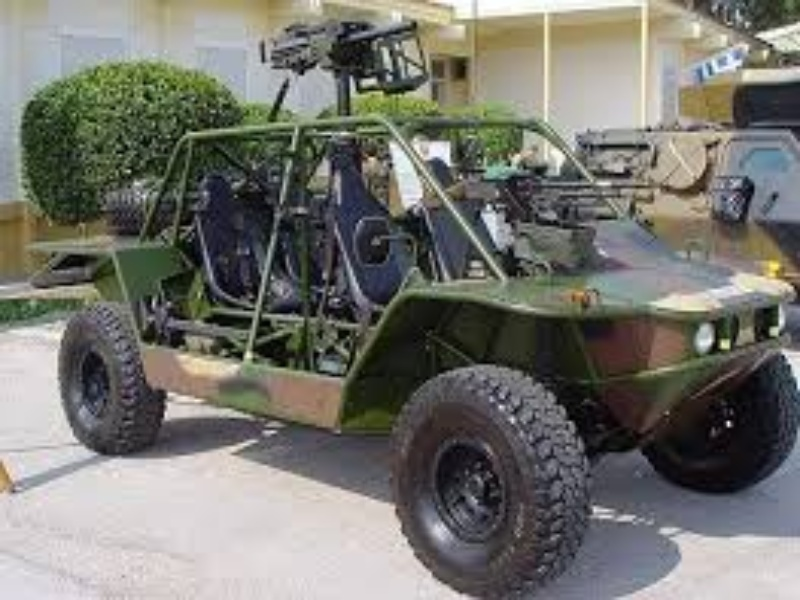jeep: (25, 19, 798, 600)
